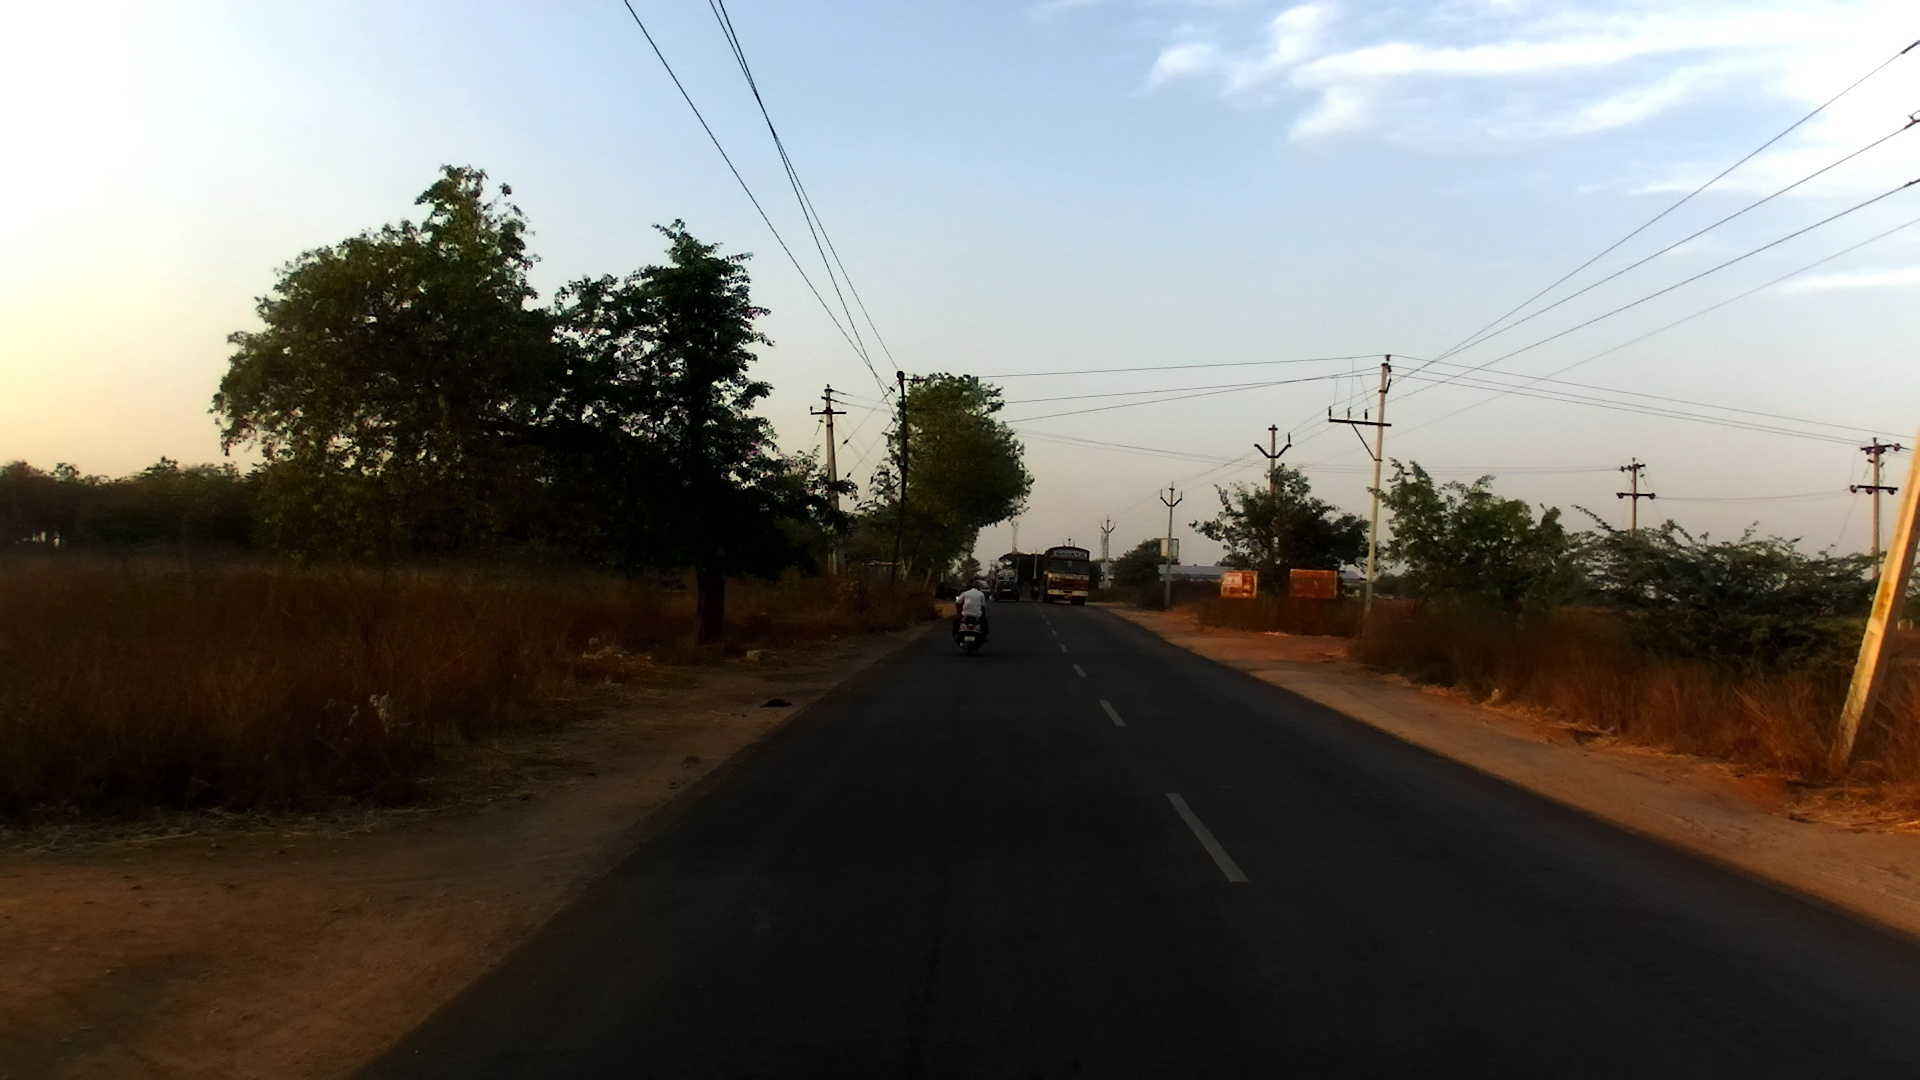car: (992, 579, 1020, 601), (969, 578, 992, 601)
motorcycle: (952, 597, 991, 656), (1028, 583, 1042, 602)
rider: (953, 578, 998, 639), (963, 576, 981, 619), (1029, 574, 1041, 601)
truck: (1039, 547, 1091, 606)
vehicle fallback: (993, 568, 1017, 583)
